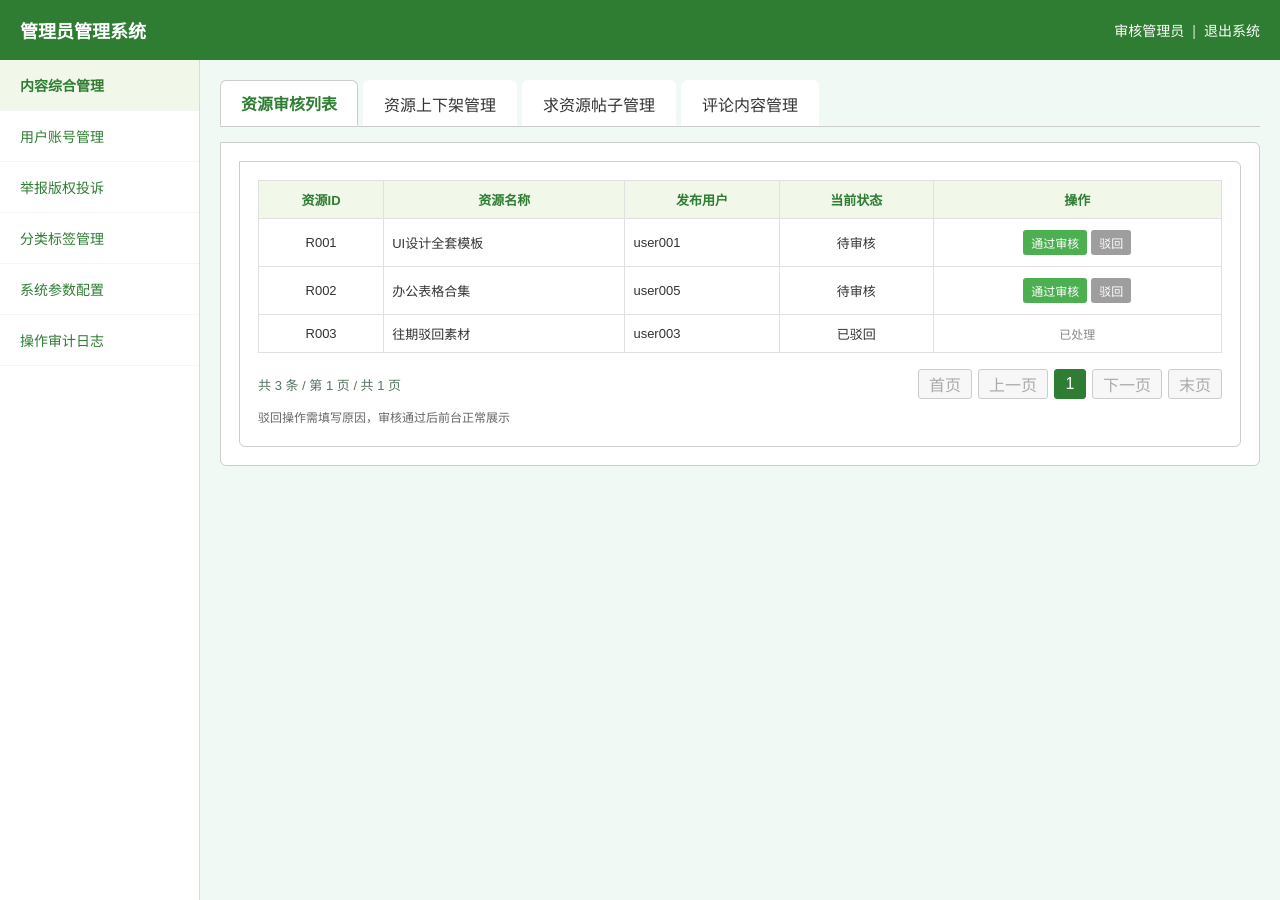
Test: Admin app shell › updates audit and user rows during mock review workflows
Click the button "驳回" in the row of "R002" at (1111, 290), box x1=1091 y1=278 x2=1131 y2=303
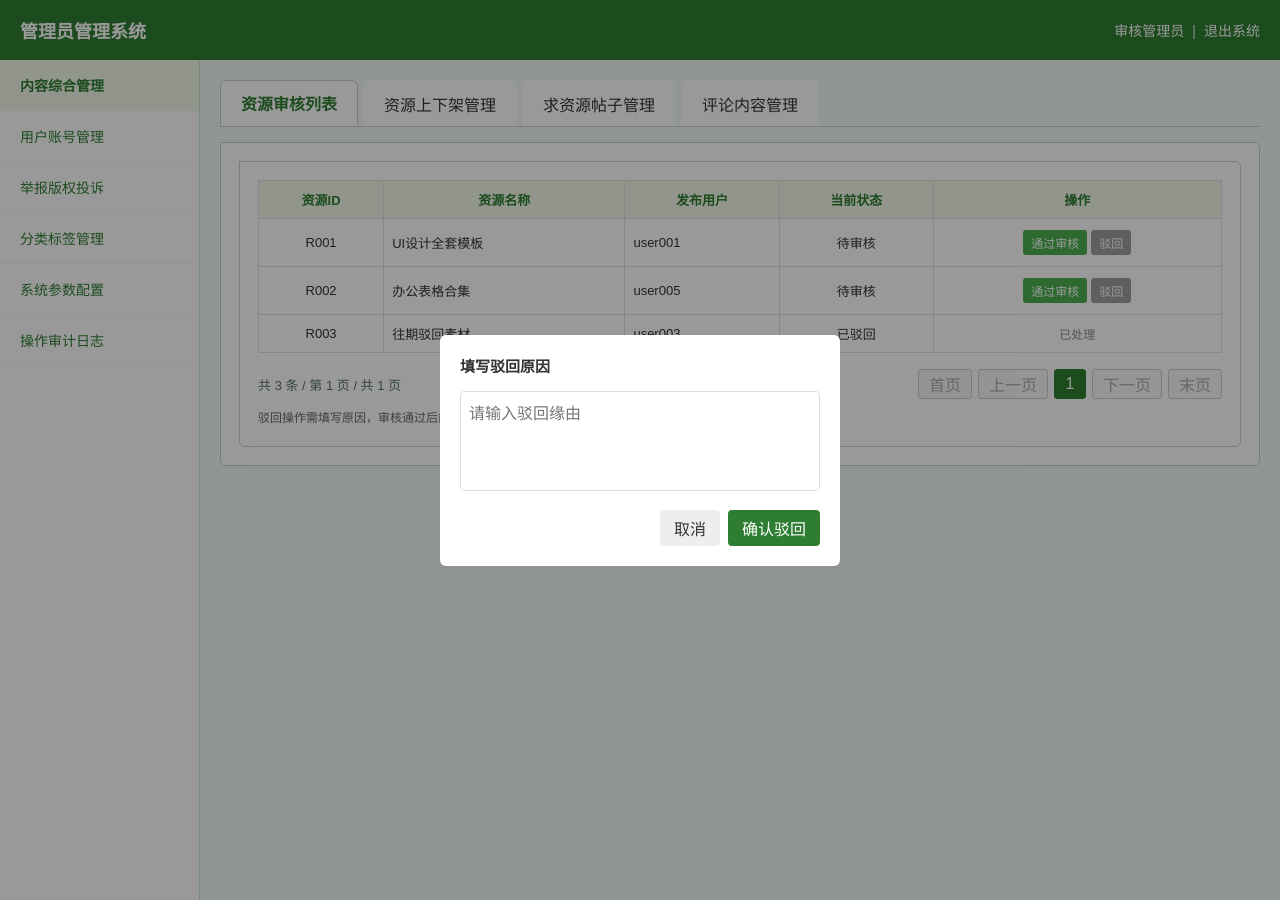
Type "资料说明不完整" into the text box with placeholder "请输入驳回缘由" at (640, 440), box x1=460 y1=390 x2=820 y2=490
Click the button "确认驳回" at (774, 528), box x1=728 y1=510 x2=820 y2=546
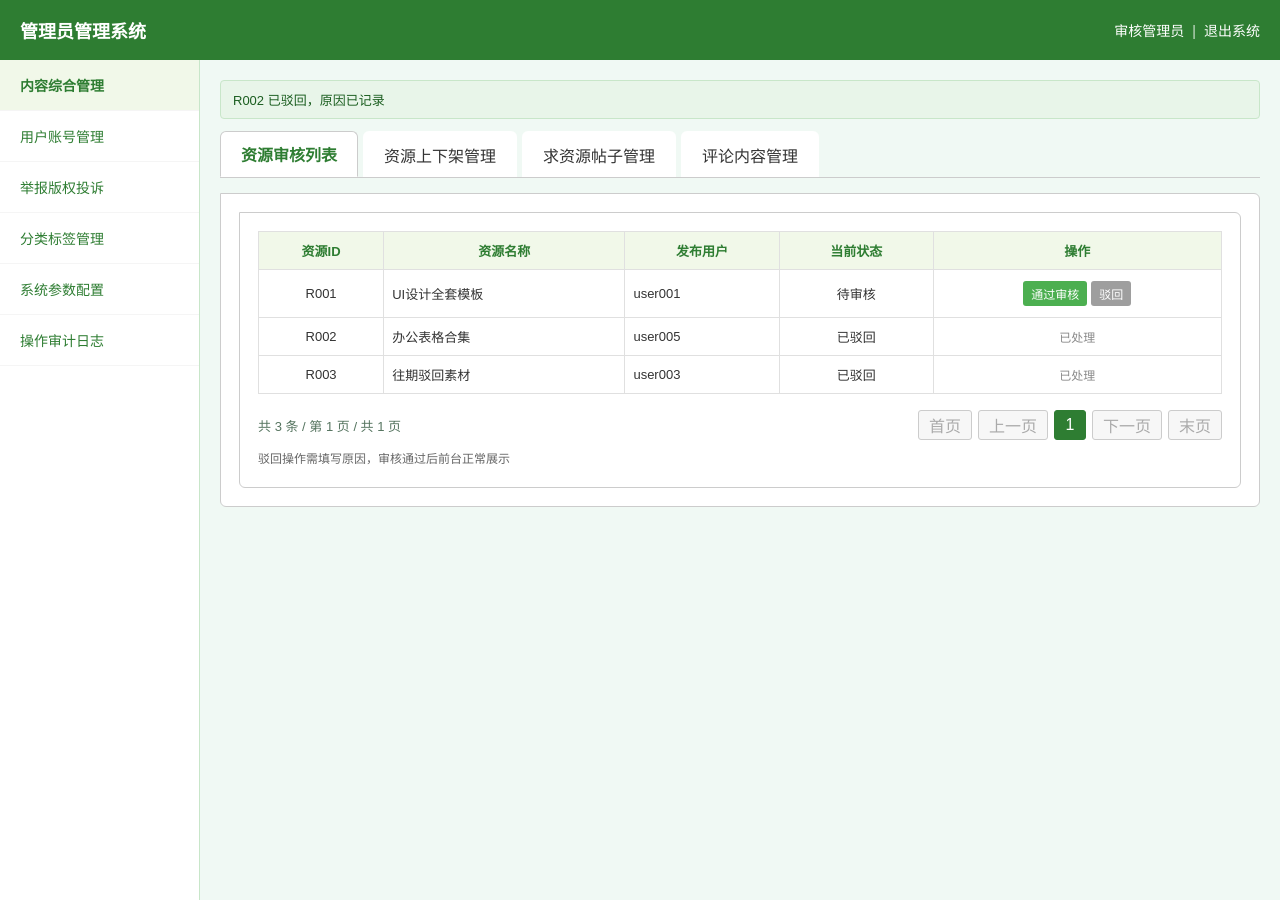
Now the text "已驳回" in the row of "办公表格合集" is shown, box x1=837 y1=330 x2=876 y2=345
Click the link "用户账号管理" at (100, 136), box x1=0 y1=111 x2=199 y2=162
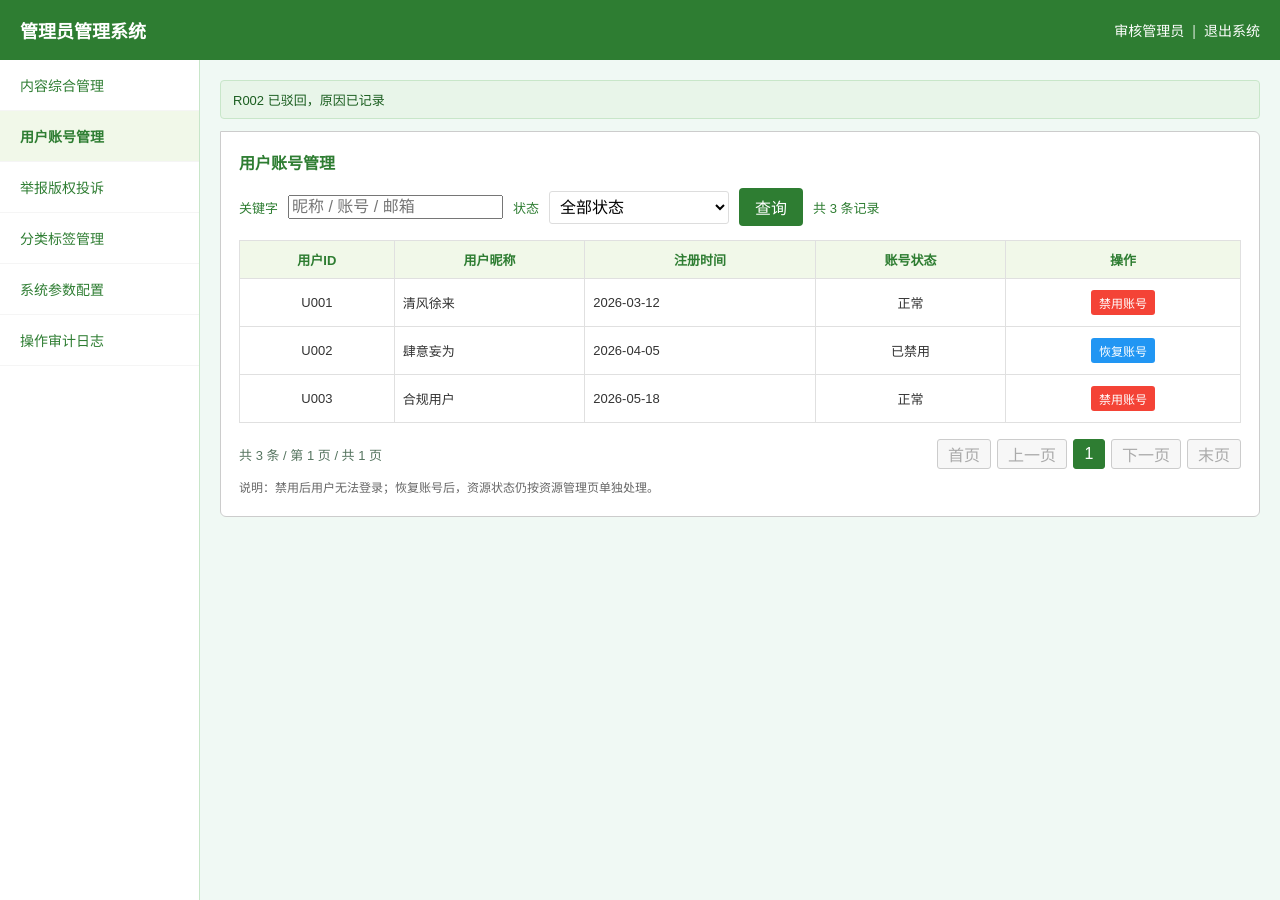
Now the text "U001" is shown, box x1=240 y1=278 x2=394 y2=326
Click the button "禁用账号" in the row of "U001" at (1123, 302), box x1=1091 y1=290 x2=1155 y2=315
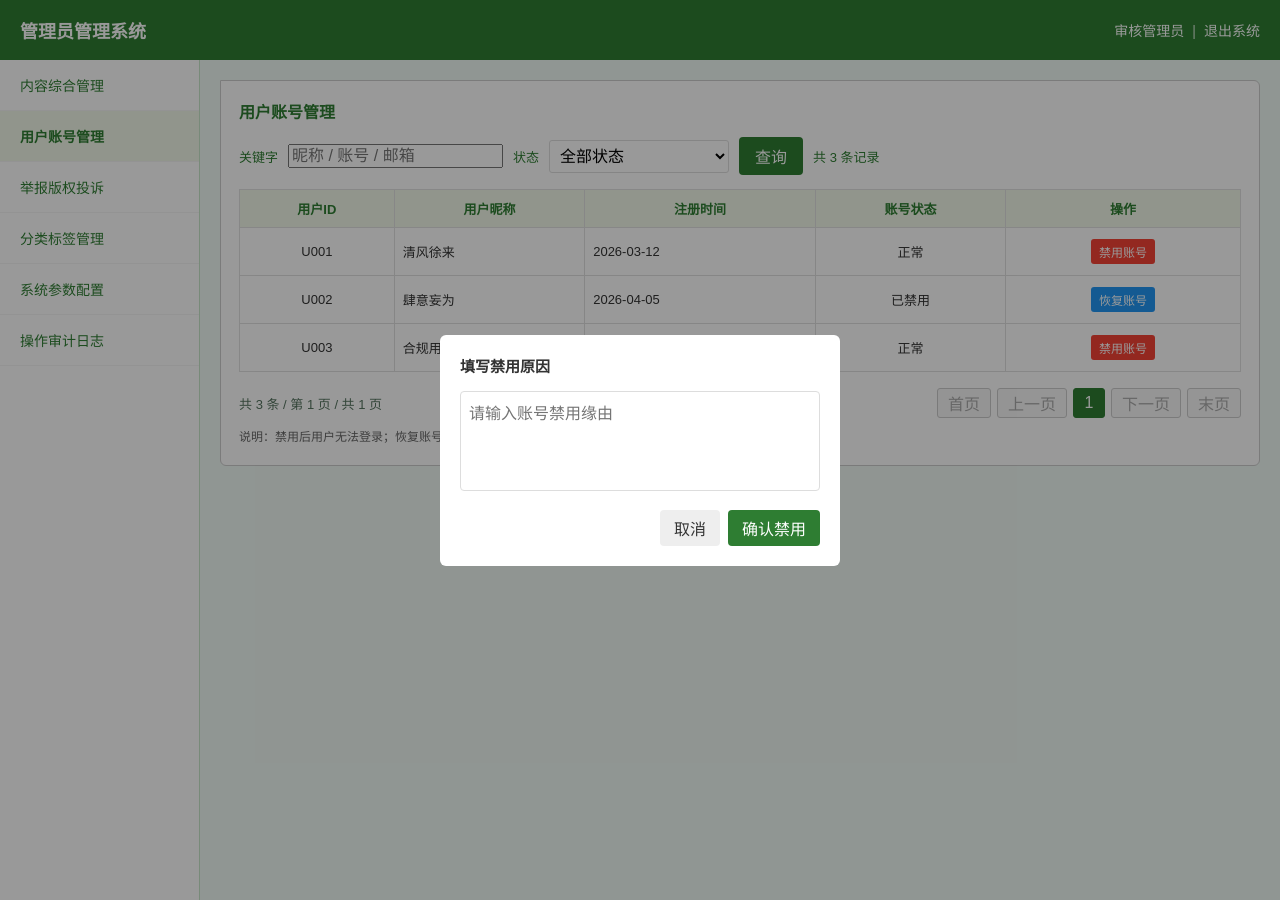
Type "多次发布违规资源" into the text box with placeholder "请输入账号禁用缘由" at (640, 440), box x1=460 y1=390 x2=820 y2=490
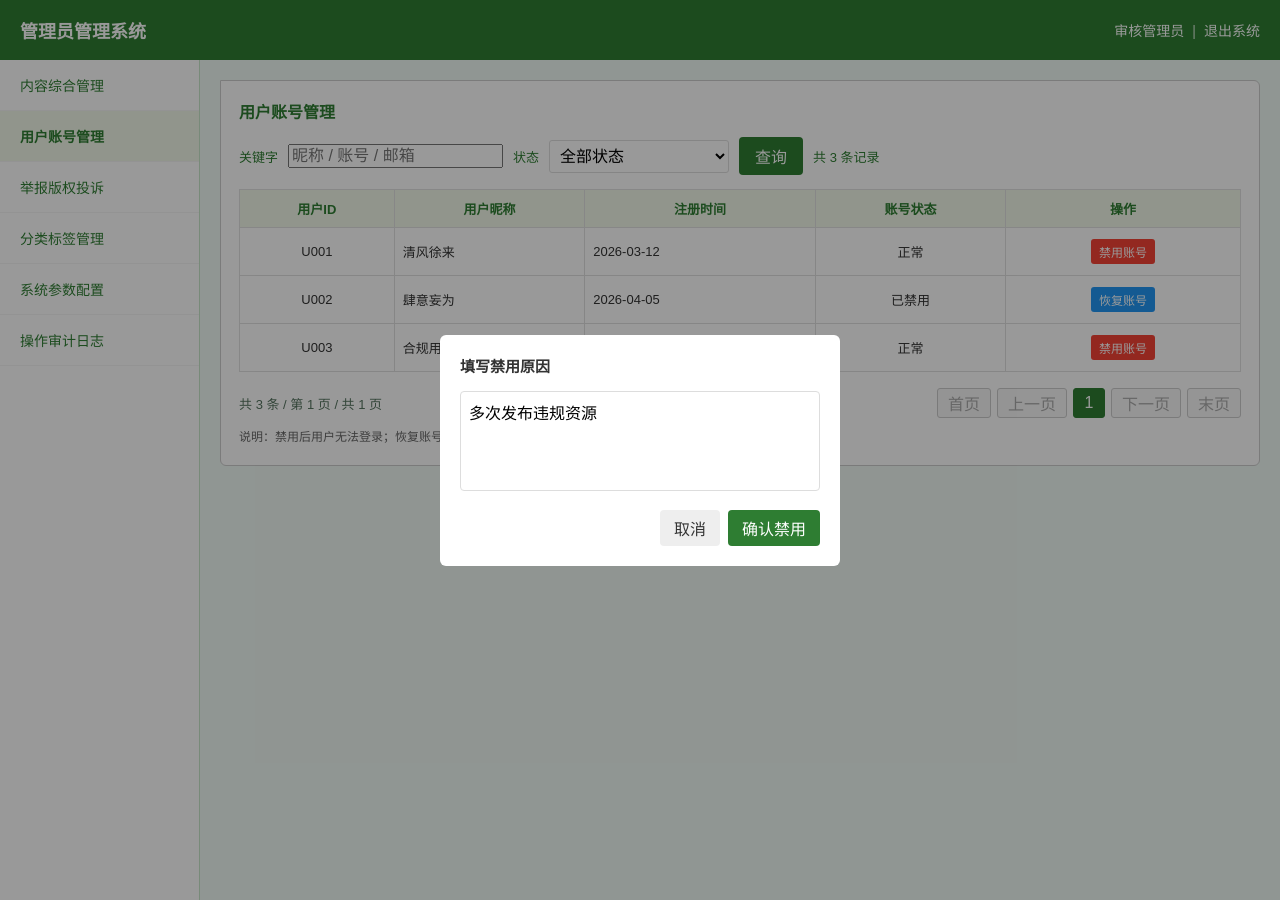
Click the button "确认禁用" at (774, 528), box x1=728 y1=510 x2=820 y2=546
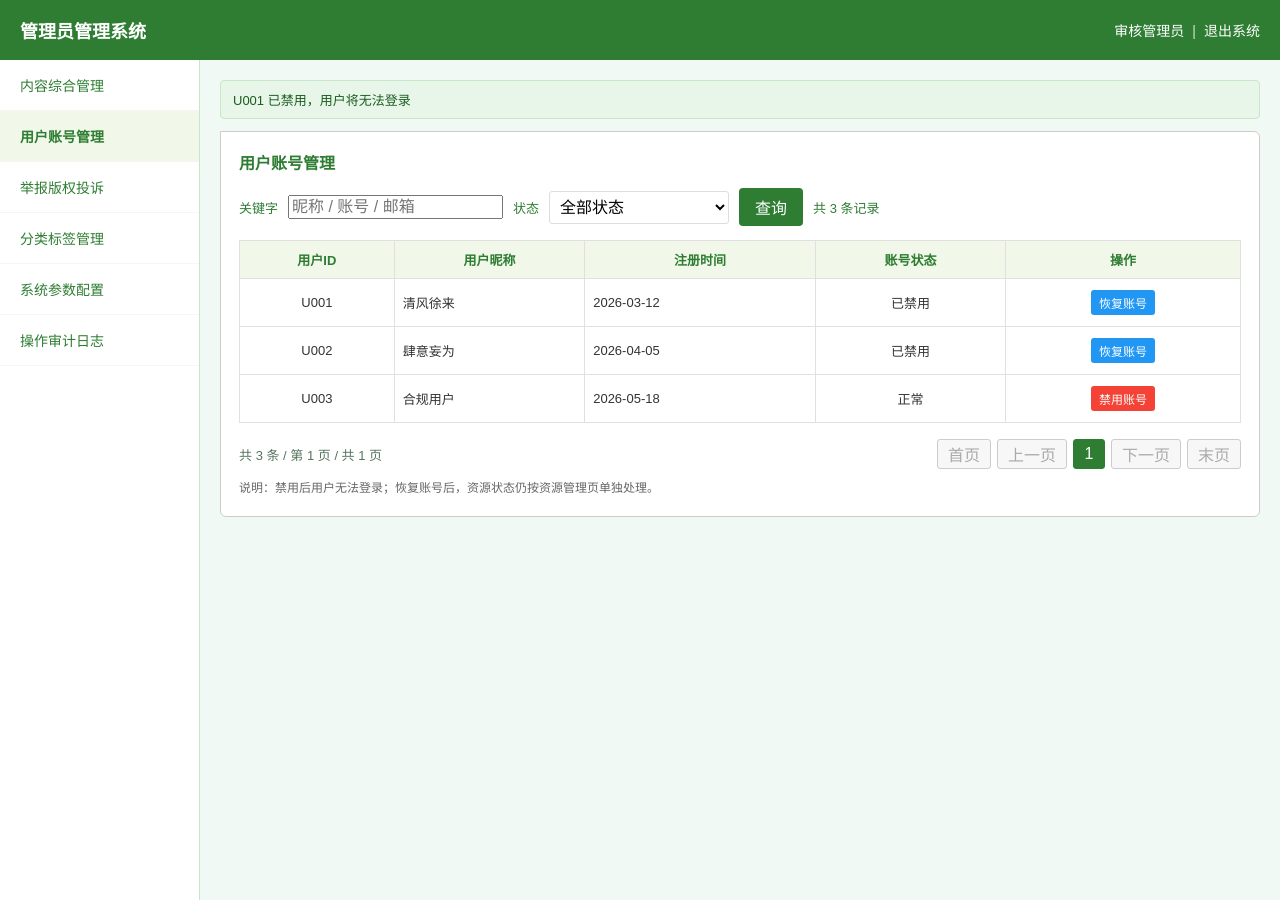
Now the text "已禁用" in the row of "清风徐来" is shown, box x1=891 y1=296 x2=930 y2=311
Now the button "恢复账号" in the row of "清风徐来" is shown, box x1=1091 y1=290 x2=1155 y2=315
